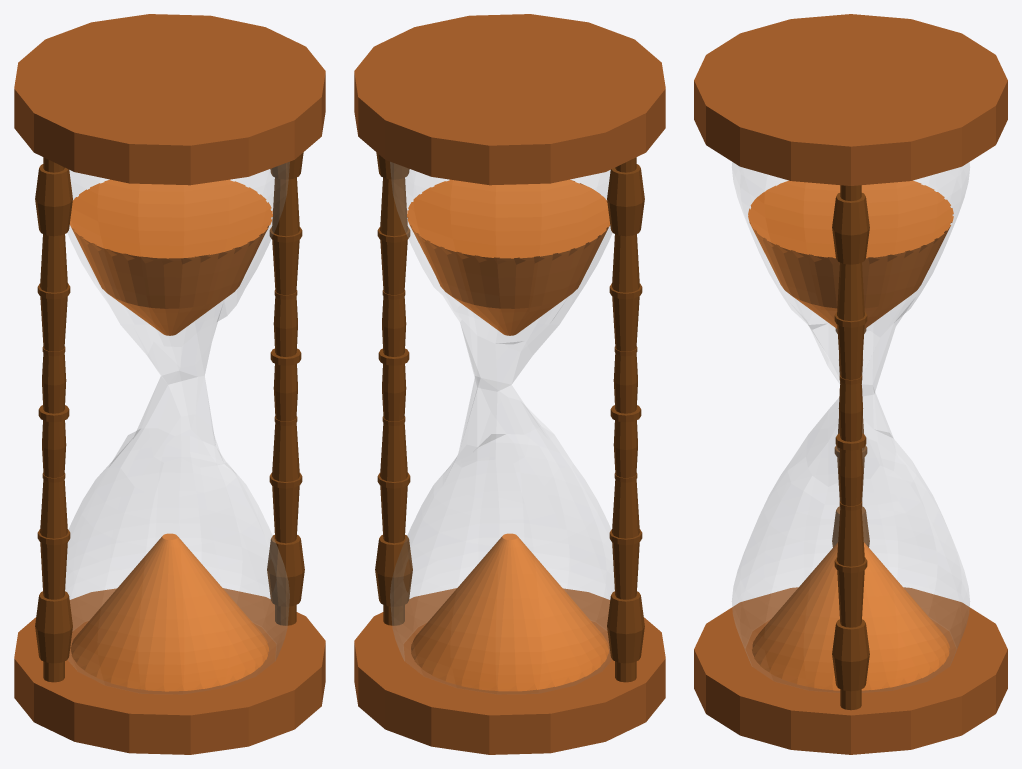
The model's file is sand.fbx.
The picture shows the model from 3 angles, left to right: view 1: azimuth 30°, elevation 25°; view 2: azimuth 150°, elevation 25°; view 3: azimuth 270°, elevation 25°; orthographic projection.
Visible parts, largest first — view 1: Cylinder.002, Cube, Cylinder.003, Cylinder.001, Cone.001, Cone; view 2: Cylinder.002, Cube, Cylinder.003, Cylinder.001, Cone.001, Cone; view 3: Cylinder.002, Cube, Cylinder.001, Cone.001, Cylinder.003, Cone.
Boxes of the visible parts, bbox=[...] form: Cylinder.002: bbox=[14, 14, 325, 185]; Cube: bbox=[65, 162, 289, 669]; Cylinder.003: bbox=[35, 152, 304, 682]; Cylinder.001: bbox=[14, 588, 325, 754]; Cone.001: bbox=[69, 179, 272, 335]; Cone: bbox=[70, 533, 269, 691]; Cylinder.002: bbox=[354, 14, 665, 185]; Cube: bbox=[390, 162, 614, 669]; Cylinder.003: bbox=[375, 152, 644, 682]; Cylinder.001: bbox=[354, 588, 665, 754]; Cone.001: bbox=[407, 179, 610, 335]; Cone: bbox=[411, 533, 608, 691]; Cylinder.002: bbox=[694, 14, 1007, 185]; Cube: bbox=[732, 162, 969, 666]; Cylinder.001: bbox=[694, 587, 1007, 754]; Cone.001: bbox=[748, 180, 953, 328]; Cylinder.003: bbox=[832, 185, 869, 710]; Cone: bbox=[752, 542, 949, 690].
Size of the model in its own units: 359 by 768 by 359.
